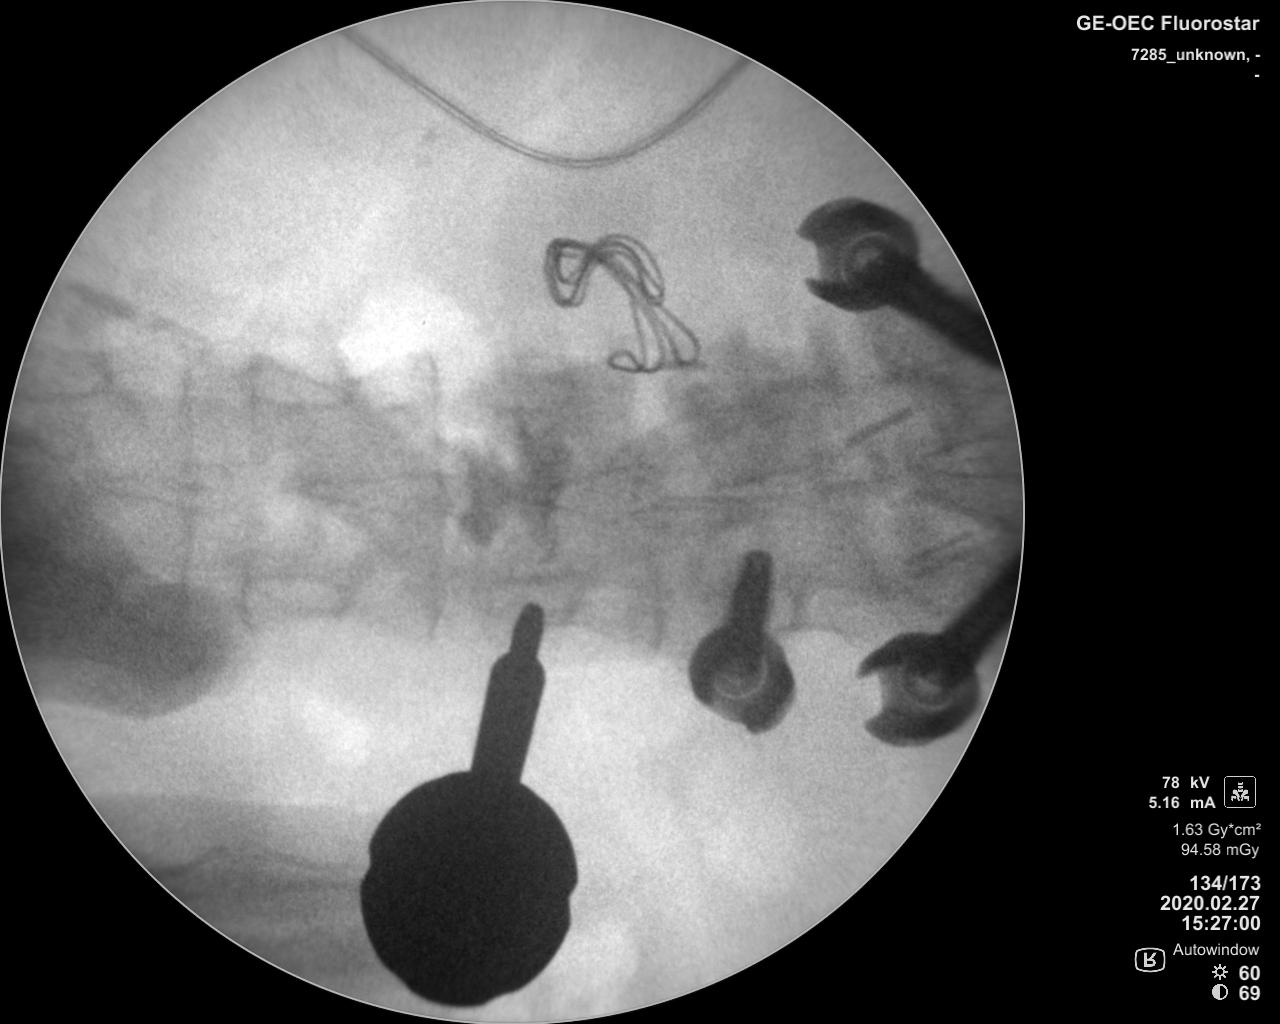eyes: (257, 362, 354, 414), (247, 571, 350, 619), (21, 348, 104, 399)
line: (418, 345, 448, 648), (173, 349, 196, 590), (239, 360, 261, 592)
nose: (83, 456, 235, 517), (513, 464, 664, 526), (282, 464, 446, 520)
